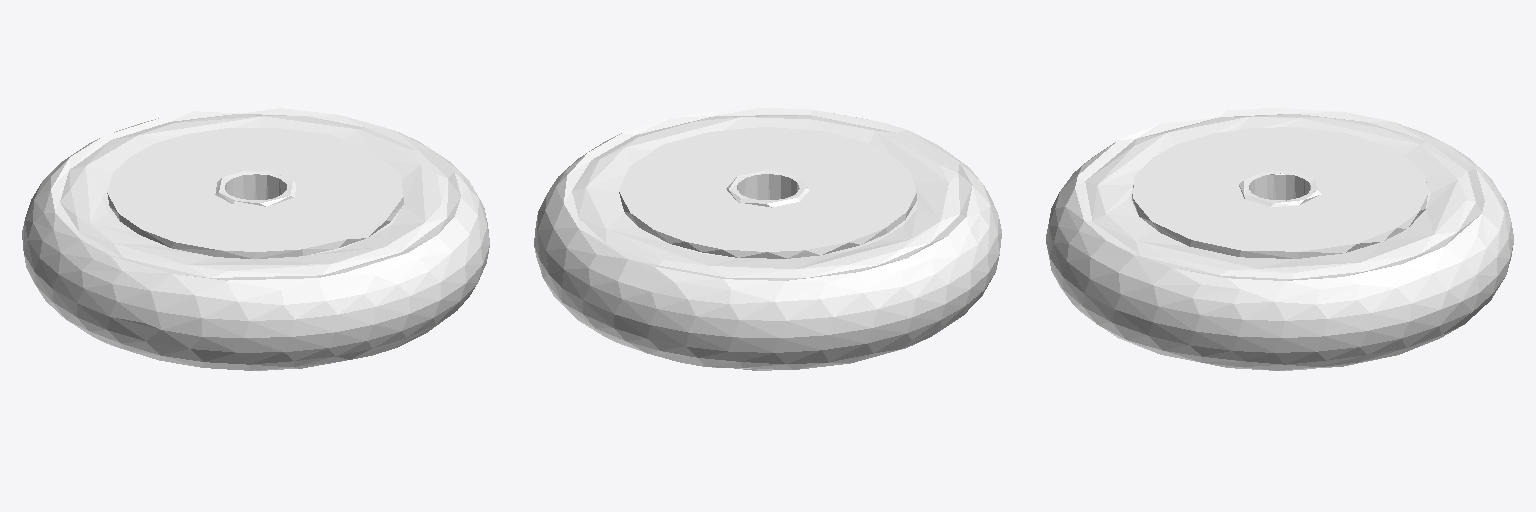
The model's file is wheel.obj.
The picture shows the model from 3 angles: view 1: azimuth 30°, elevation 25°; view 2: azimuth 150°, elevation 25°; view 3: azimuth 270°, elevation 25°; orthographic projection.
Bounding box in the file's own units: 1.58 × 0.516 × 1.58.